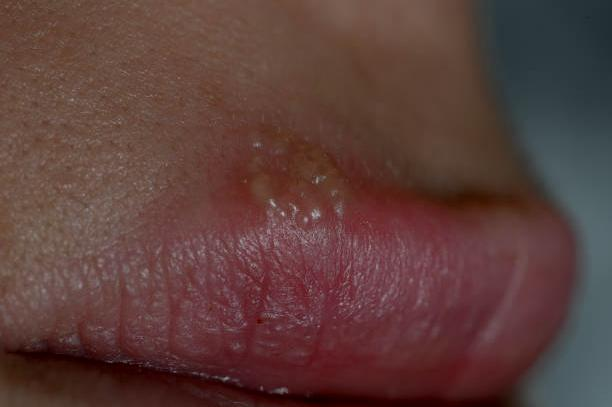Ulcer: (242, 121, 367, 239)
